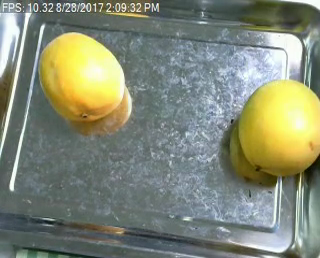Mango: (39, 32, 126, 123), (238, 80, 320, 176)
